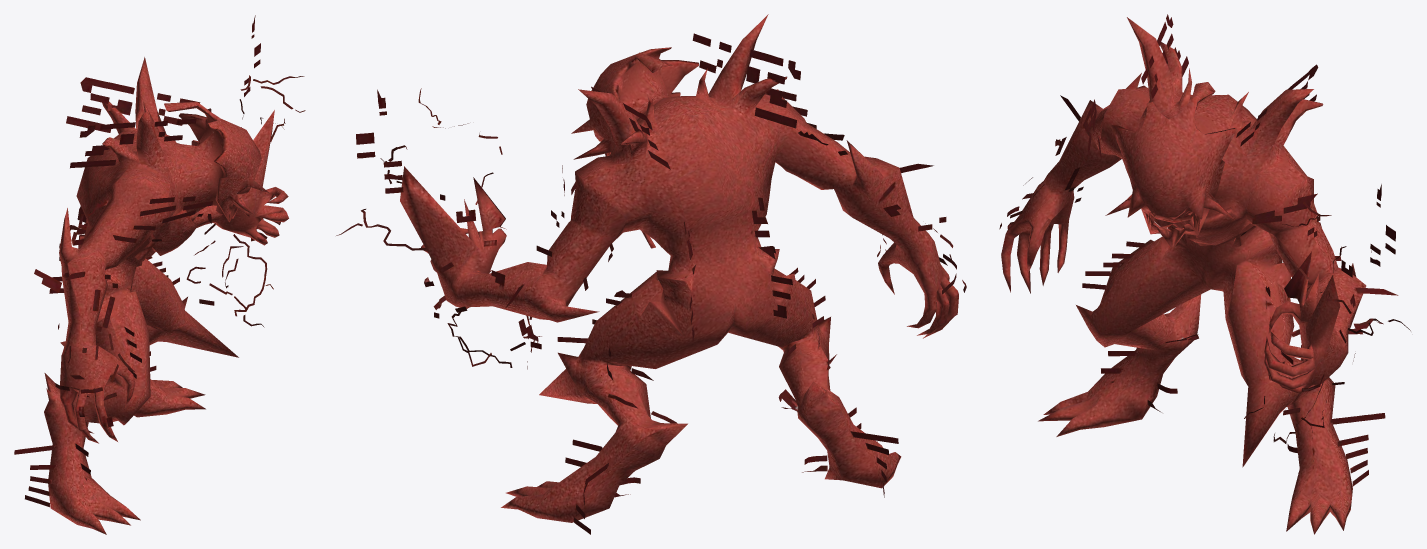
The model's file is barbare_tripo.glb.
3 renders of one model, left to right at view 1: azimuth 30°, elevation 25°; view 2: azimuth 150°, elevation 25°; view 3: azimuth 270°, elevation 25°, orthographic. The views are drawn at different scales.
Parts seen in each view (by area): view 1: tripo_node_22d5643b-b1fe-4c5e-808e-604aeadefc92; view 2: tripo_node_22d5643b-b1fe-4c5e-808e-604aeadefc92; view 3: tripo_node_22d5643b-b1fe-4c5e-808e-604aeadefc92.
Boxes of the visible parts, left/top/right/bottom form: tripo_node_22d5643b-b1fe-4c5e-808e-604aeadefc92: left=14, top=15, right=305, bottom=534; tripo_node_22d5643b-b1fe-4c5e-808e-604aeadefc92: left=336, top=14, right=966, bottom=534; tripo_node_22d5643b-b1fe-4c5e-808e-604aeadefc92: left=999, top=14, right=1410, bottom=534.
Bounding box in the file's own units: 0.9995 × 0.9985 × 0.855.
Materials: 1 (1 with a texture image).
